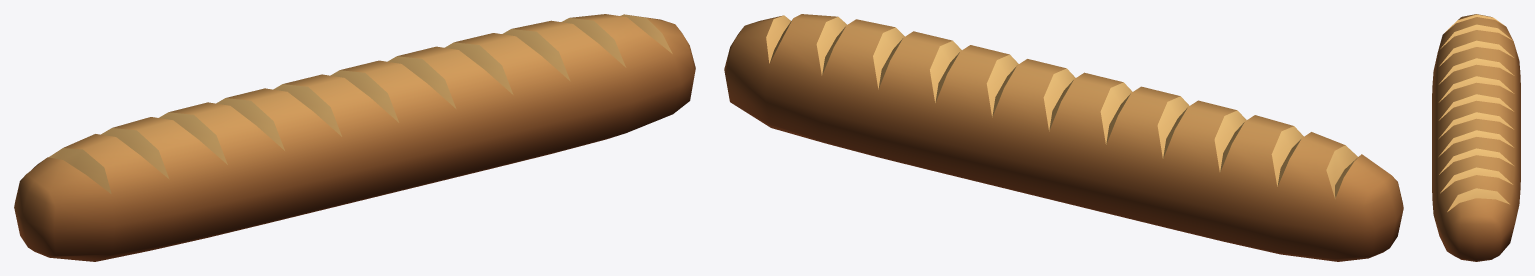
Rendered from Baguette.glb.
3 views of the same model, side by side, from view 1: azimuth 30°, elevation 25°; view 2: azimuth 150°, elevation 25°; view 3: azimuth 270°, elevation 25° (orthographic). The views are drawn at different scales.
Visible parts, largest first — view 1: Baguette; view 2: Baguette; view 3: Baguette.
Part boxes in pixels (bbox=[...]): Baguette: bbox=[14, 14, 695, 261]; Baguette: bbox=[724, 14, 1403, 261]; Baguette: bbox=[1432, 14, 1520, 261].
Bounding box in the file's own units: 1.4 × 0.2252 × 0.2501.
Materials: 1 (1 with a texture image).
